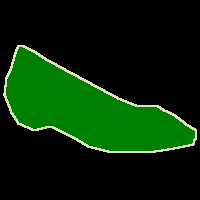shoe: (4, 46, 196, 152)
